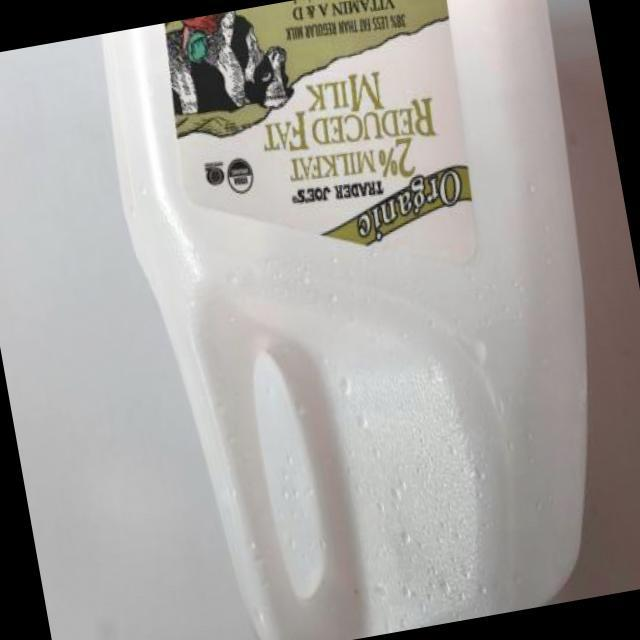HDPE Plastic: (93, 0, 598, 612)
